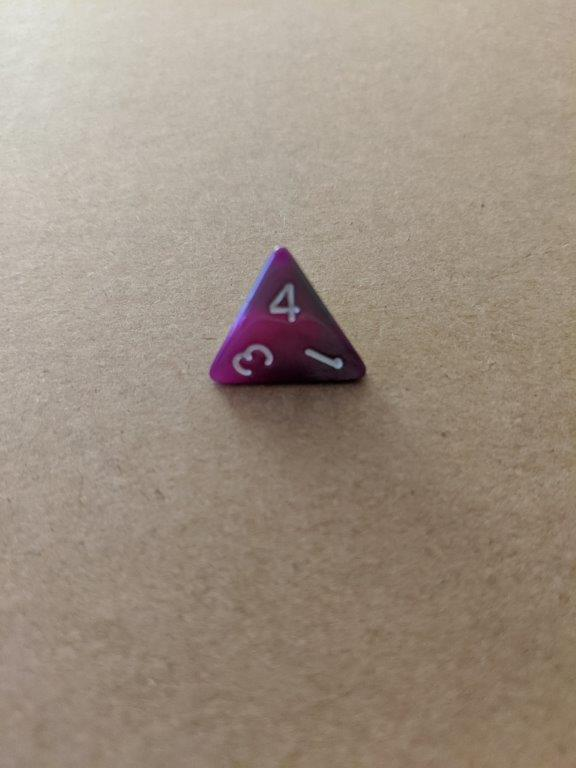d4-4: (202, 245, 368, 385)
